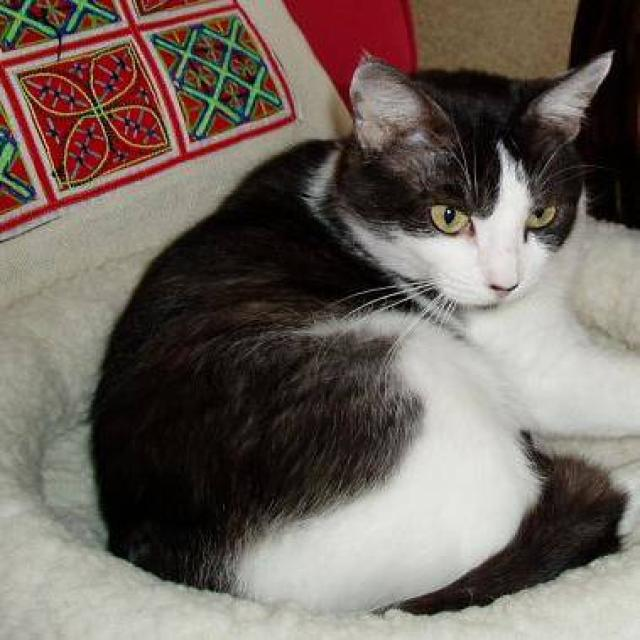cat: (84, 47, 638, 619)
